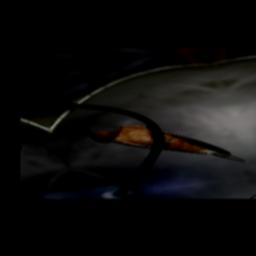Swallow: (81, 110, 249, 182)
